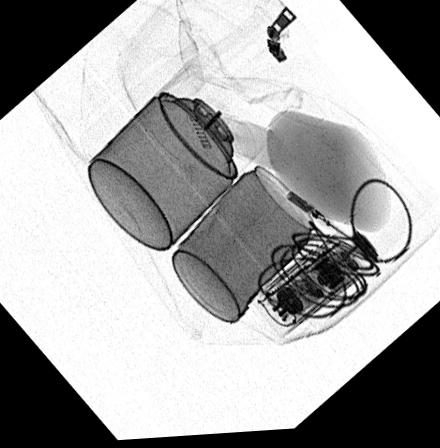Sprayer: (86, 63, 265, 253)
